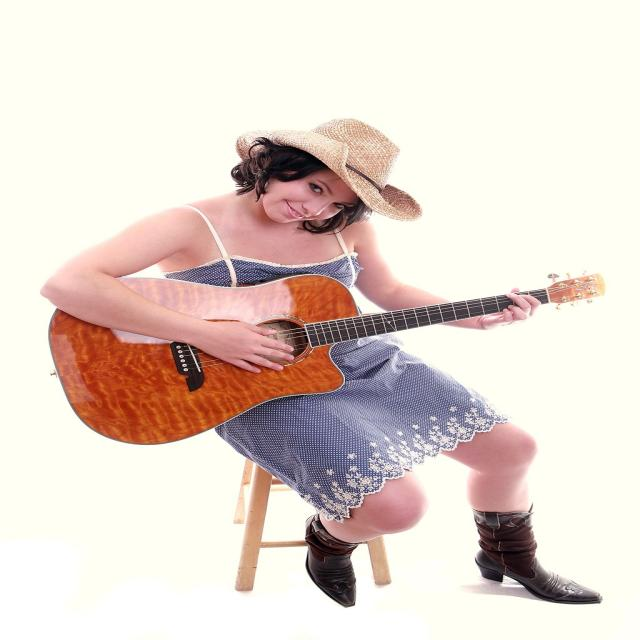guitar: (42, 269, 612, 448)
